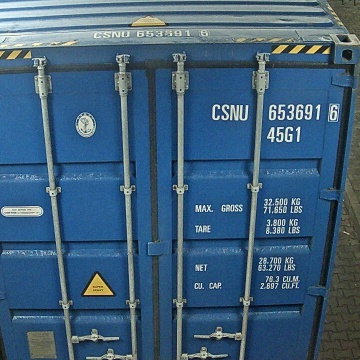serial_id: (210, 103, 337, 121)
